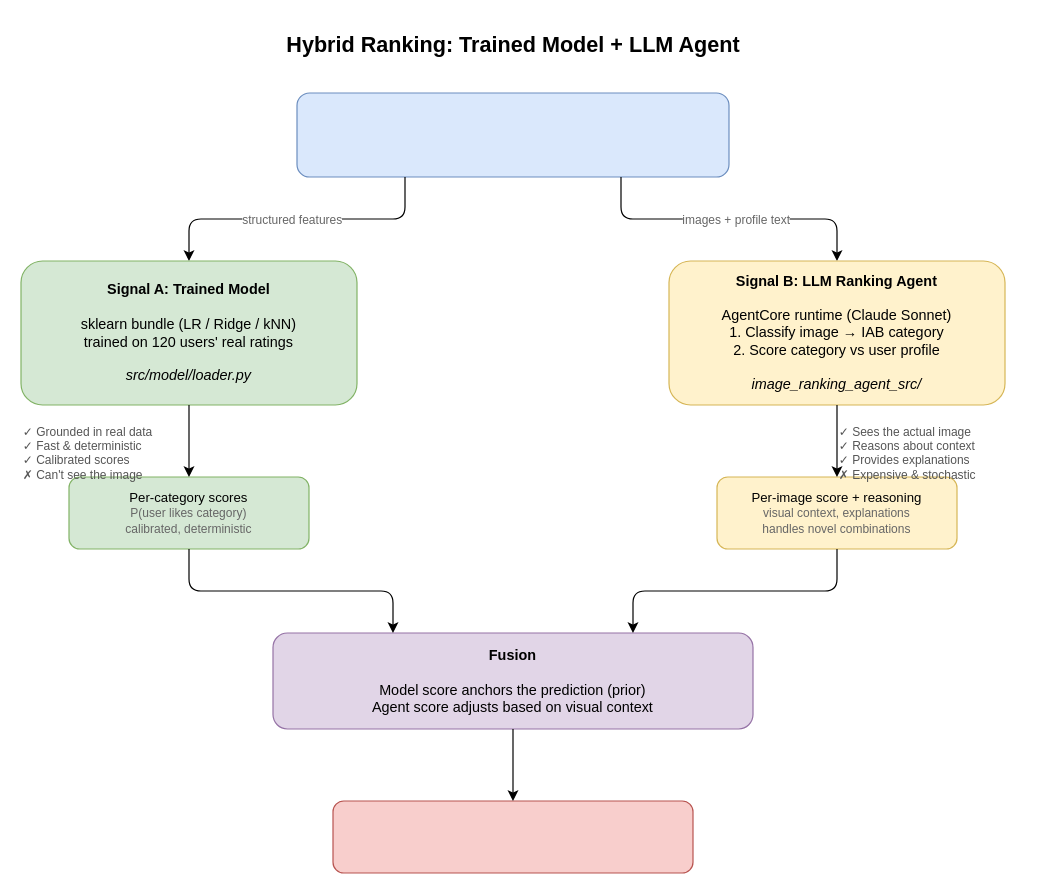
Some shapes in this 1038 by 894 pixel diagram are drawn without their labels. Here are the shapes that lost their labels. From the top down, the centre of each, then its label:
At point 512,134: "User Input Profile (demographics, preferences) + Candidate Ad Images".
At point 512,836: "Ranked Ads Combined affinity score + explanation per image".
